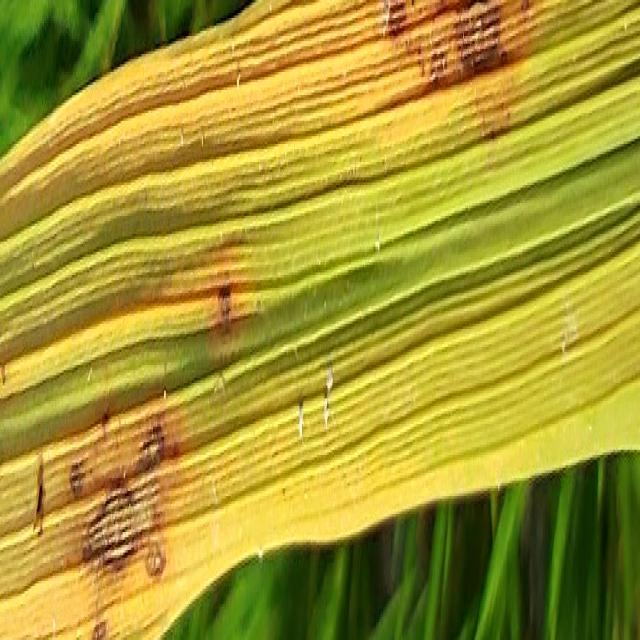LEAF BLAST: (82, 477, 154, 571), (451, 5, 512, 73), (428, 34, 449, 89), (142, 422, 165, 470), (146, 542, 165, 578), (389, 0, 407, 33), (218, 280, 231, 321), (70, 463, 83, 496), (92, 619, 106, 640)
